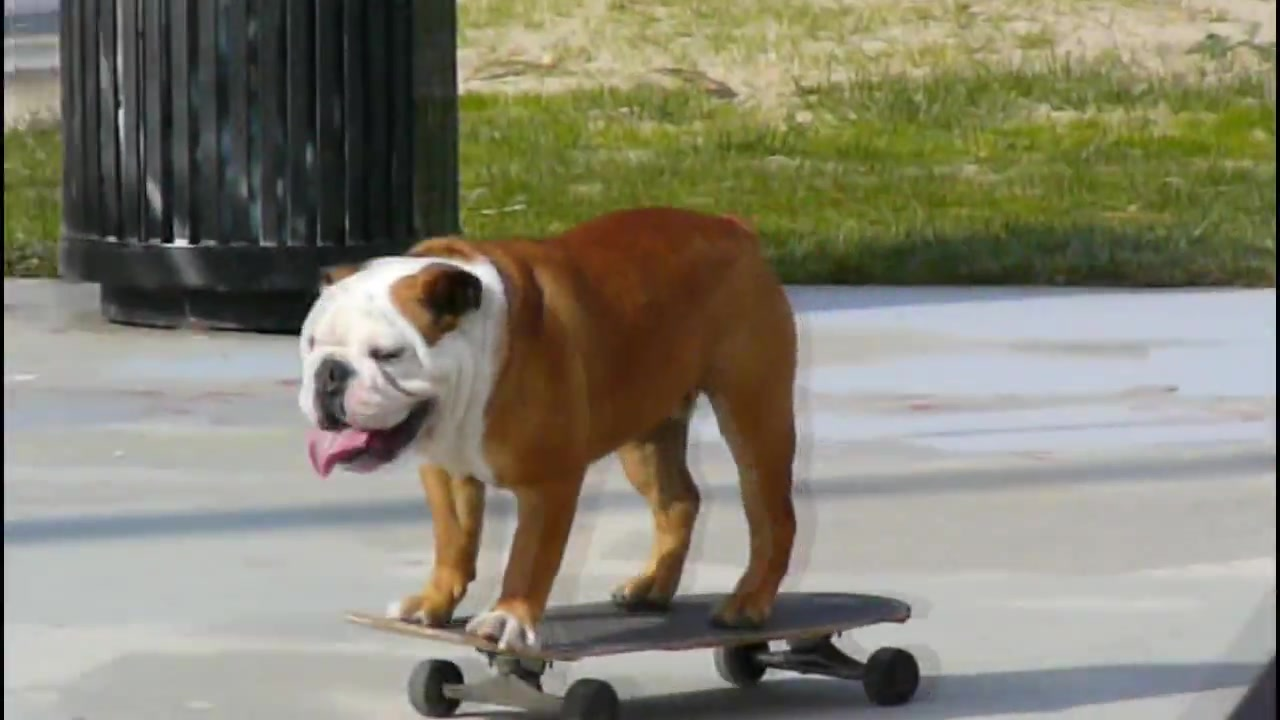dog: (301, 203, 825, 649)
